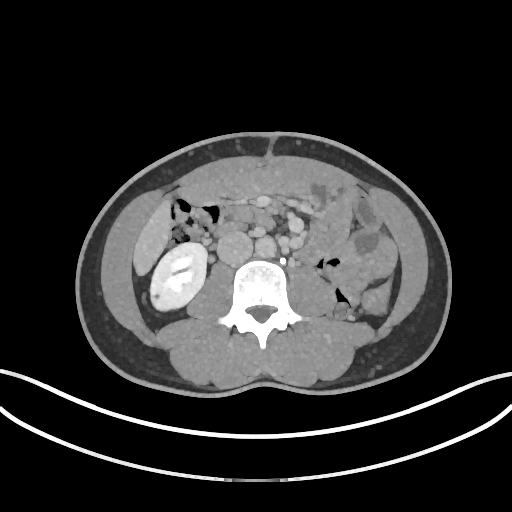Lesion: (153, 288, 162, 303)
